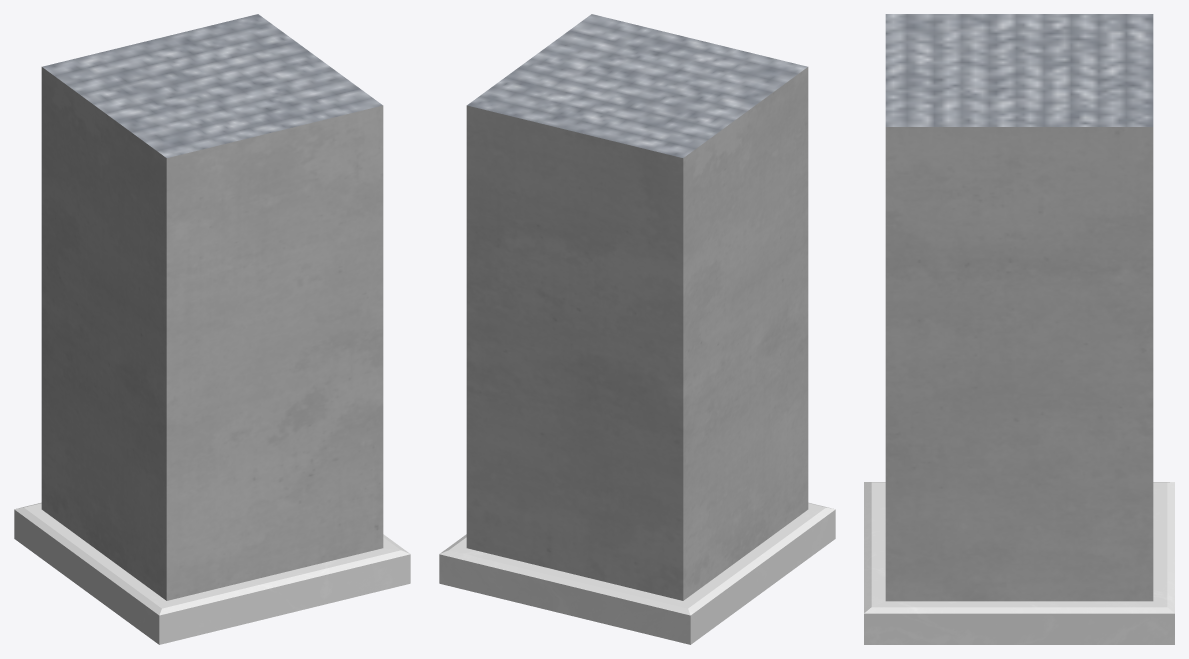
Rendered from Office_BigPillar.fbx.
3 views of the same model, side by side, from view 1: azimuth 30°, elevation 25°; view 2: azimuth 150°, elevation 25°; view 3: azimuth 270°, elevation 25° (orthographic). The views are drawn at different scales.
Visible parts, largest first — view 1: PillarBig; view 2: PillarBig; view 3: PillarBig.
Boxes of the visible parts, x1=… form: PillarBig: x1=14, y1=14, x2=410, y2=644; PillarBig: x1=439, y1=14, x2=835, y2=644; PillarBig: x1=864, y1=14, x2=1174, y2=644.
Size of the model in its own units: 1.94 by 3.5 by 1.94.
Materials: 1 (1 with a texture image).
